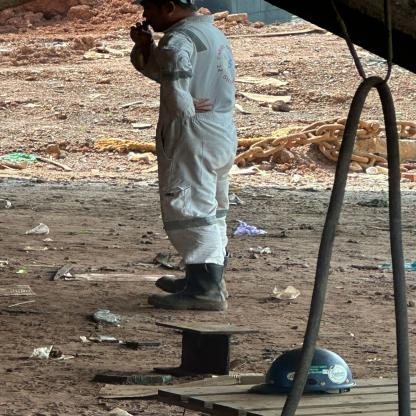bota: (142, 262, 230, 311)
